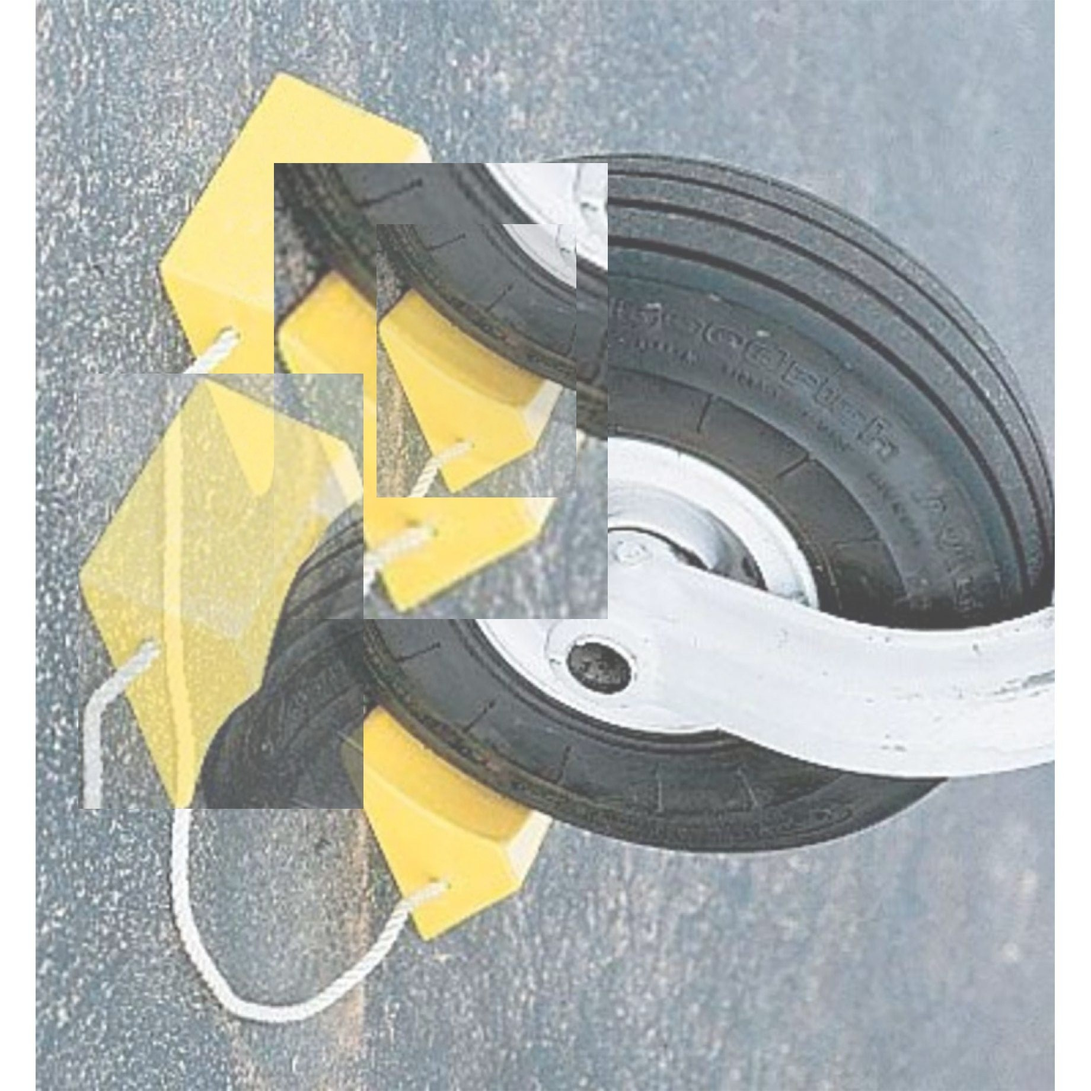chock: (274, 163, 608, 619), (78, 374, 363, 809), (159, 69, 438, 495), (338, 631, 568, 946), (377, 224, 576, 497)
wheel: (274, 151, 1054, 861)
